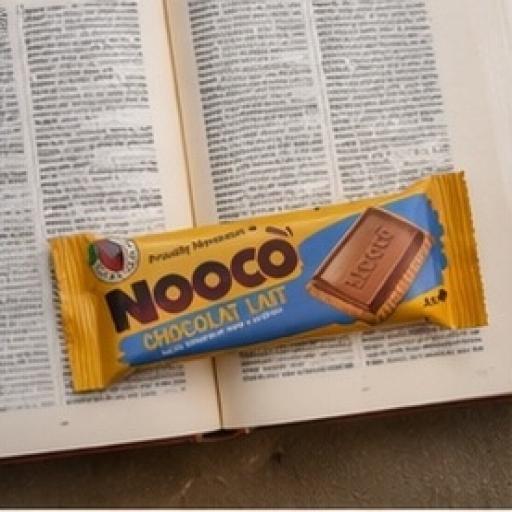biscuit-detection: (30, 199, 497, 380)
